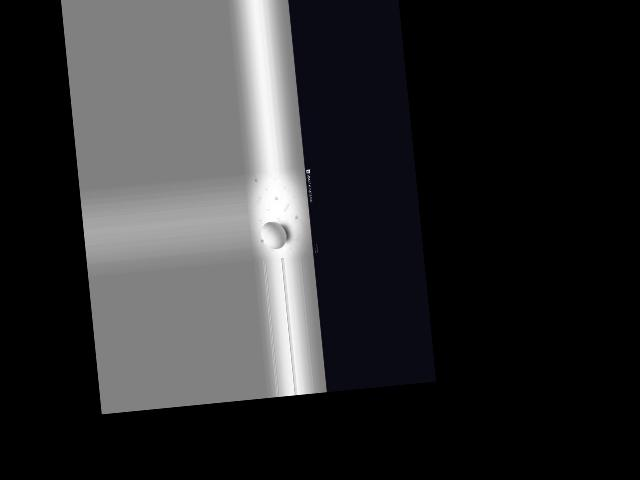egg: (260, 221, 288, 250)
